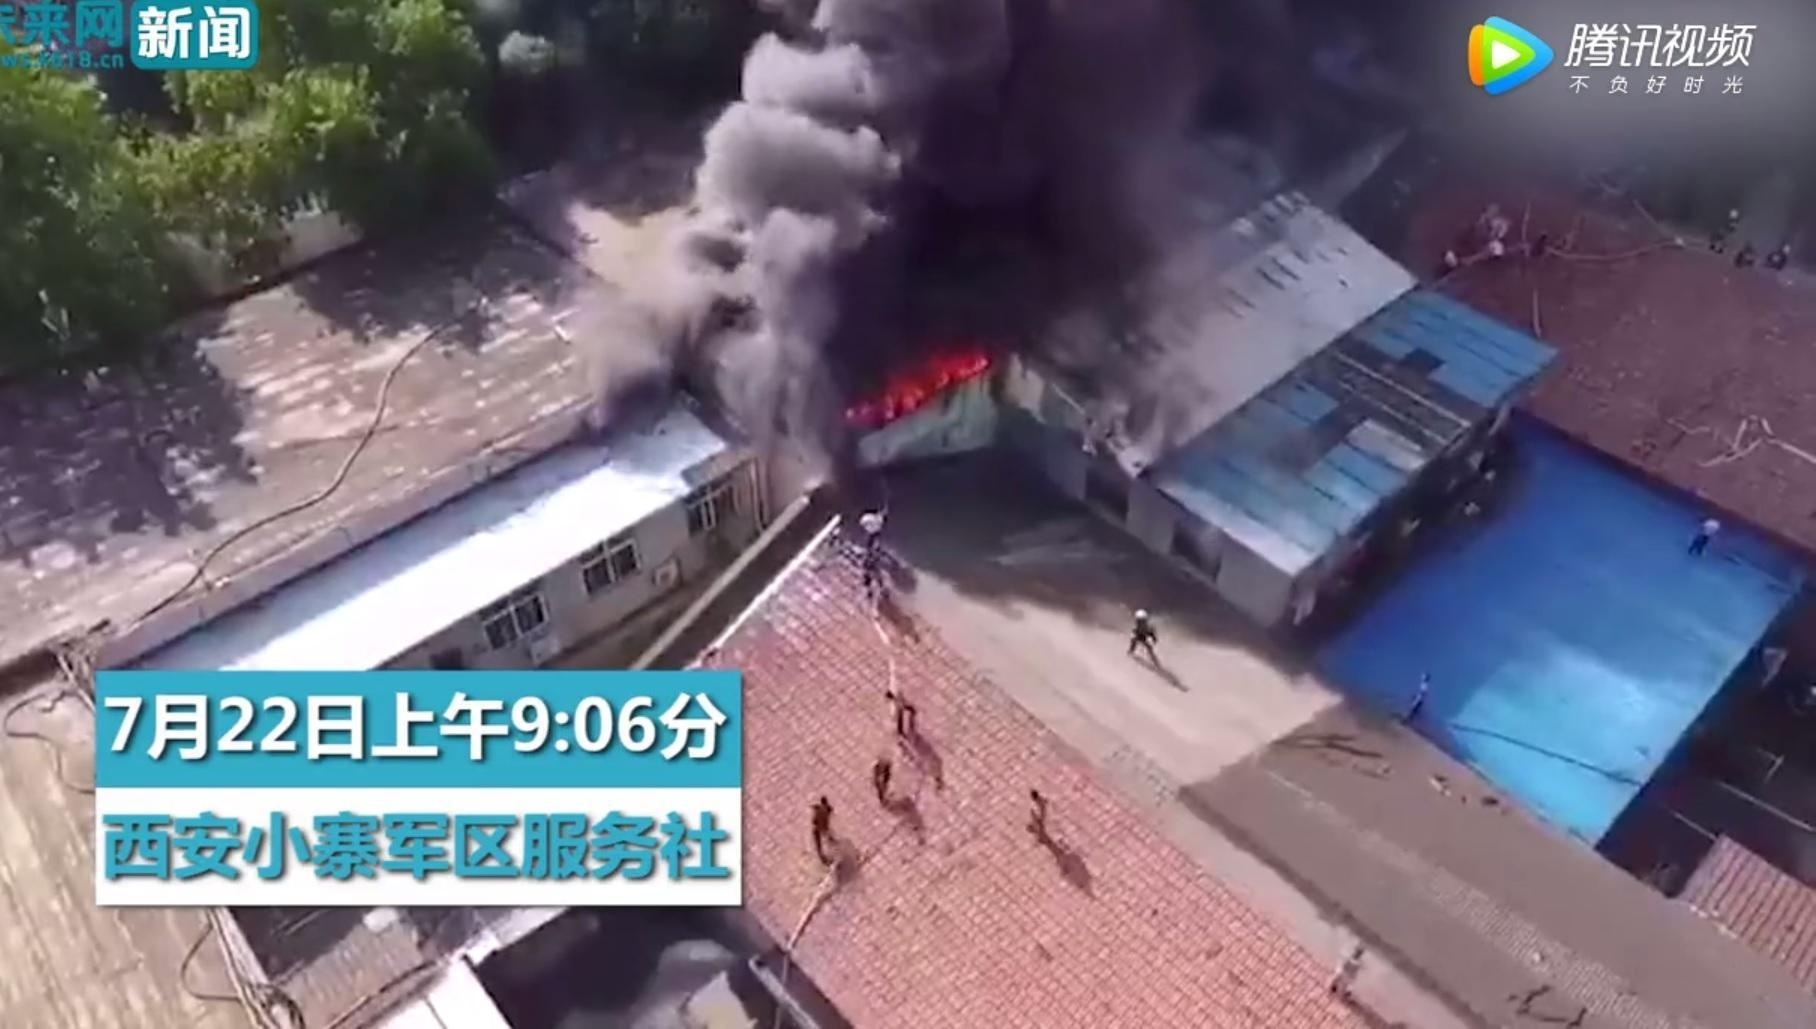fire: (849, 344, 993, 415)
